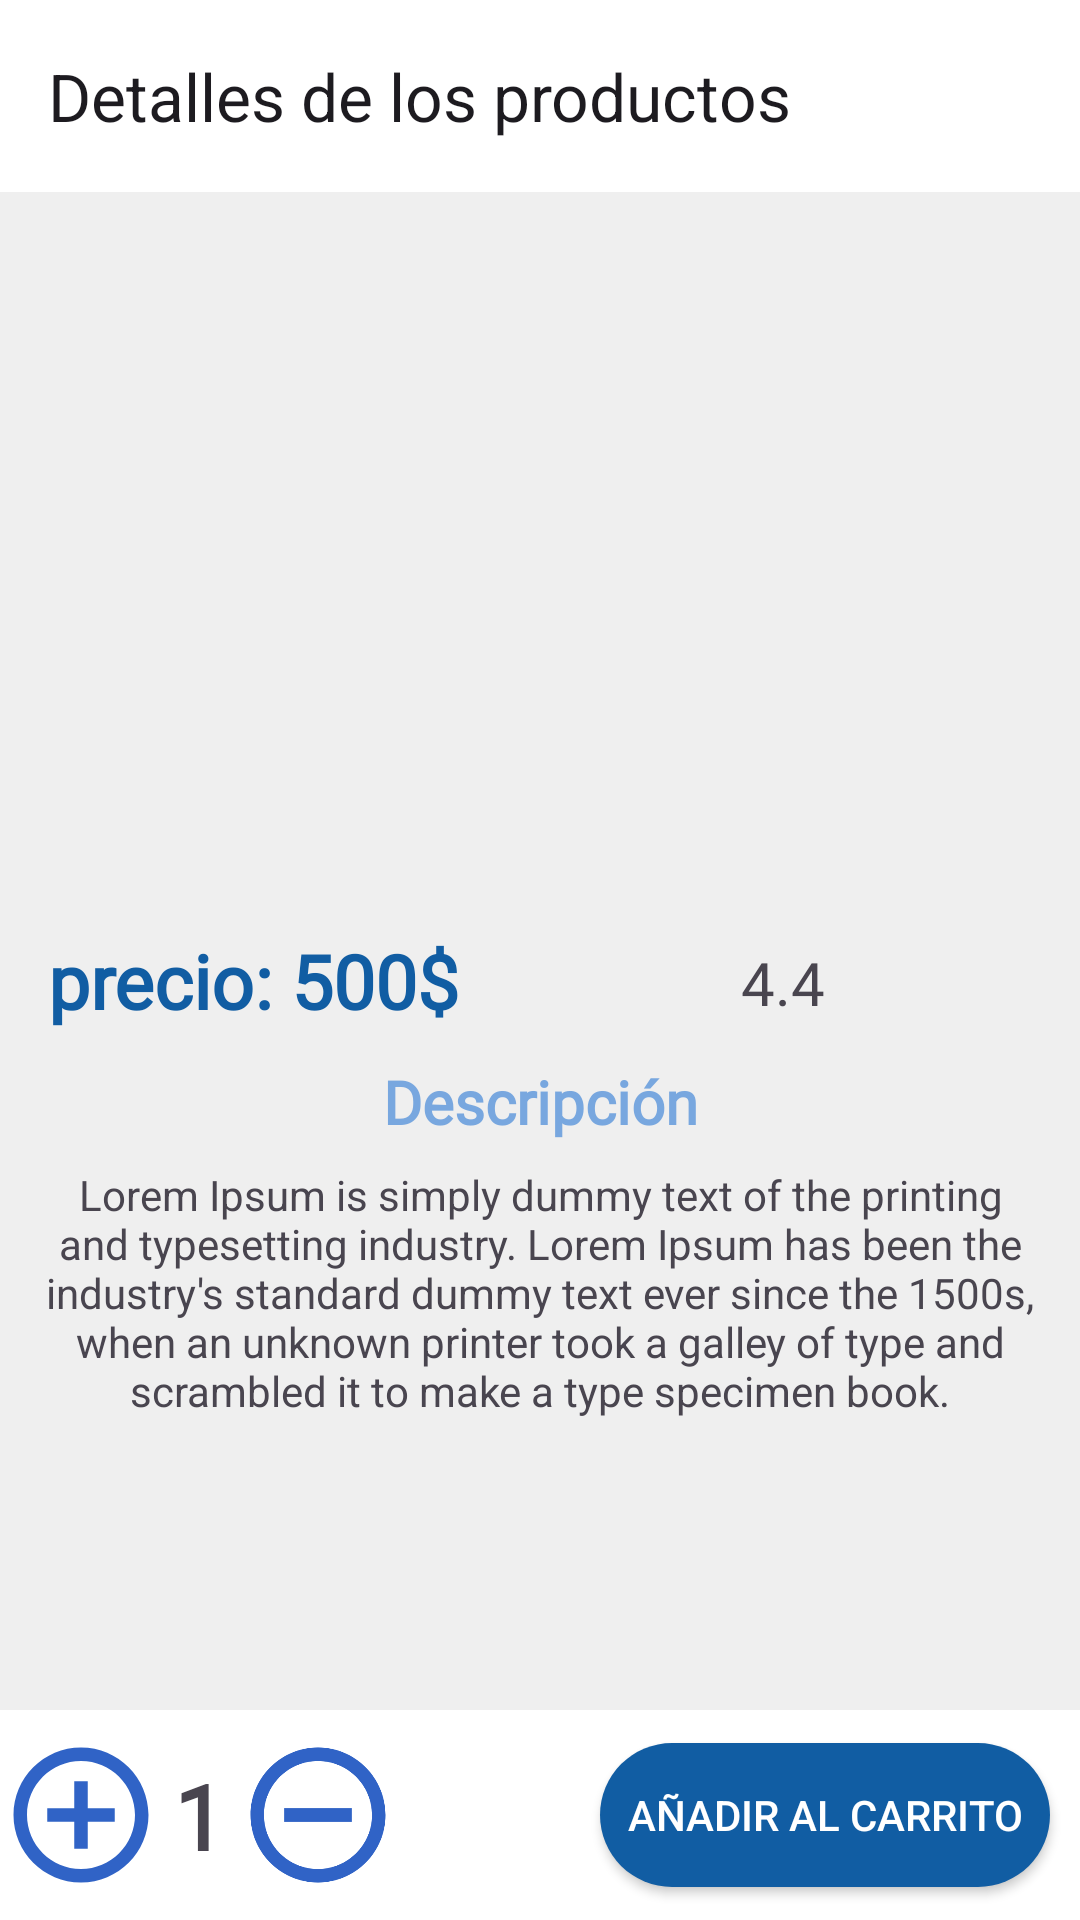

Named icons in this screenshot (1080x1920) and their centers, (x=x, y=y):
add circle: (x=81, y=1815)
remove circle: (x=318, y=1815)
